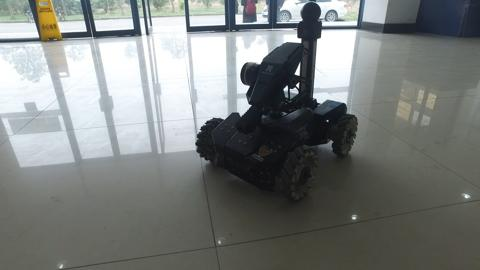car: (260, 1, 349, 24)
chariot: (193, 1, 361, 203)
